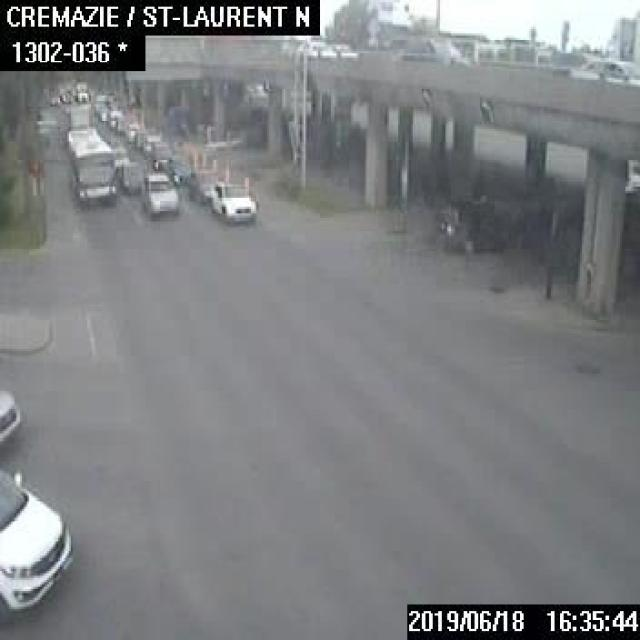bus: (65, 125, 114, 200)
vehicle: (0, 464, 73, 614), (439, 191, 522, 249), (573, 51, 638, 88), (212, 180, 255, 220), (141, 173, 180, 215), (186, 170, 227, 203), (0, 387, 20, 442), (115, 161, 147, 191), (164, 153, 192, 183), (150, 140, 170, 169), (141, 132, 161, 156), (124, 118, 140, 142), (96, 102, 115, 121), (133, 125, 149, 146), (114, 114, 129, 132), (107, 108, 121, 126)
